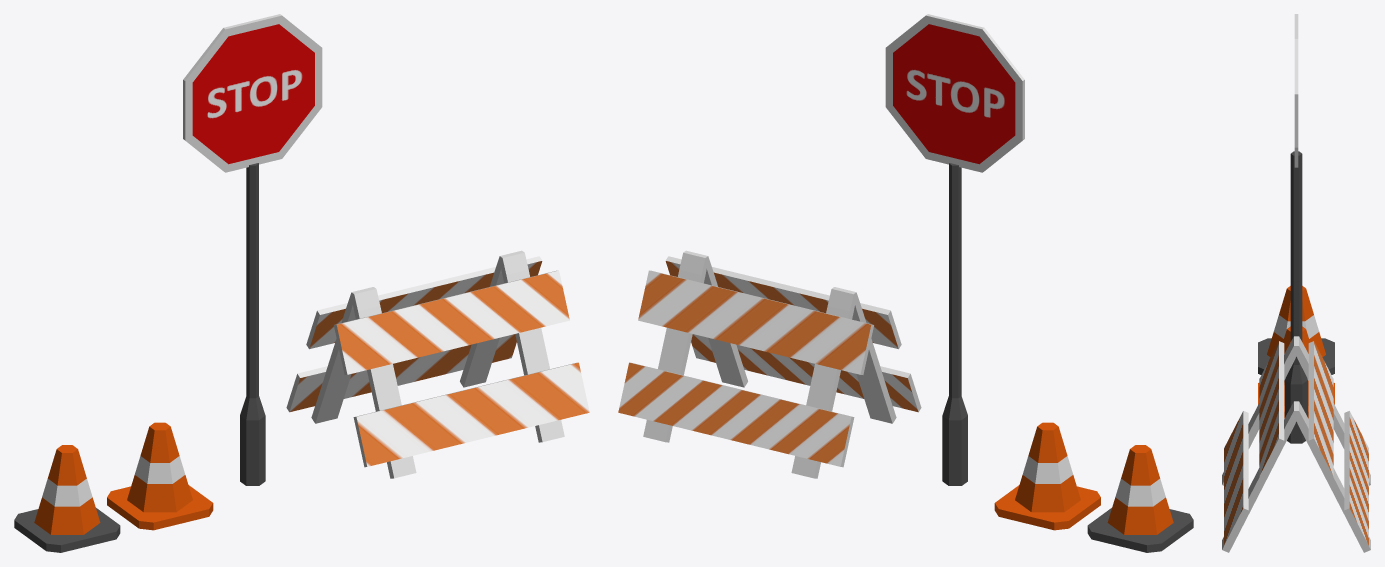
File: construction.glb
The picture shows the model from 3 angles, left to right: view 1: azimuth 30°, elevation 25°; view 2: azimuth 150°, elevation 25°; view 3: azimuth 270°, elevation 25°; orthographic projection. The views are drawn at different scales.
Visible parts, largest first — view 1: Cilindro, Cubo.007, Cubo.006, Cubo.002, Cilindro.003, Cilindro.002, Cilindro.001, Cubo.003, Cubo; view 2: Cilindro, Cubo.007, Cubo.006, Cubo.002, Cilindro.003, Cilindro.002, Cilindro.001, Cubo.003, Cubo; view 3: Cubo.006, Cubo.007, Cilindro.003, Cubo.002, Cilindro.001, Cilindro, Cubo, Cilindro.002.
Boxes of the visible parts, <box> form: Cilindro: <box>183,14,322,172</box>; Cubo.007: <box>286,334,589,467</box>; Cubo.006: <box>306,256,569,374</box>; Cubo.002: <box>311,250,564,478</box>; Cilindro.003: <box>240,163,265,485</box>; Cilindro.002: <box>127,422,192,512</box>; Cilindro.001: <box>34,445,100,534</box>; Cubo.003: <box>107,485,213,530</box>; Cubo: <box>14,508,120,552</box>; Cilindro: <box>885,14,1024,172</box>; Cubo.007: <box>618,334,921,467</box>; Cubo.006: <box>638,256,901,374</box>; Cubo.002: <box>643,250,896,478</box>; Cilindro.003: <box>942,163,967,485</box>; Cilindro.002: <box>1015,422,1080,512</box>; Cilindro.001: <box>1107,445,1173,534</box>; Cubo.003: <box>994,485,1100,530</box>; Cubo: <box>1087,508,1193,552</box>; Cubo.006: <box>1259,341,1333,478</box>; Cubo.007: <box>1224,411,1368,547</box>; Cilindro.003: <box>1285,151,1307,443</box>; Cubo.002: <box>1222,336,1370,552</box>; Cilindro.001: <box>1267,286,1325,356</box>; Cilindro: <box>1294,14,1298,167</box>; Cubo: <box>1258,338,1334,374</box>; Cilindro.002: <box>1283,326,1309,405</box>.
Size of the model in its own units: 14 by 11.95 by 3.87.
Materials: 1 (1 with a texture image).
